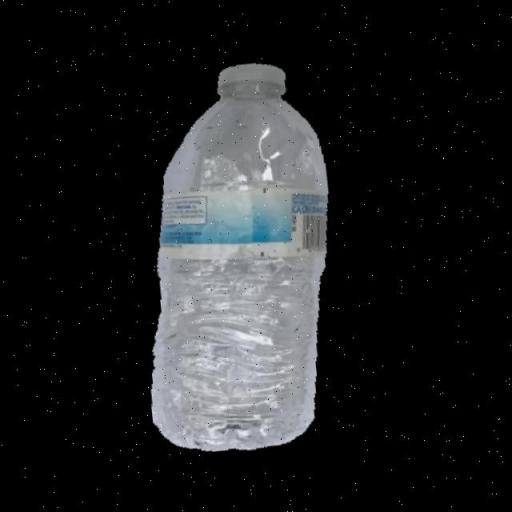plastic: (115, 52, 358, 461)
